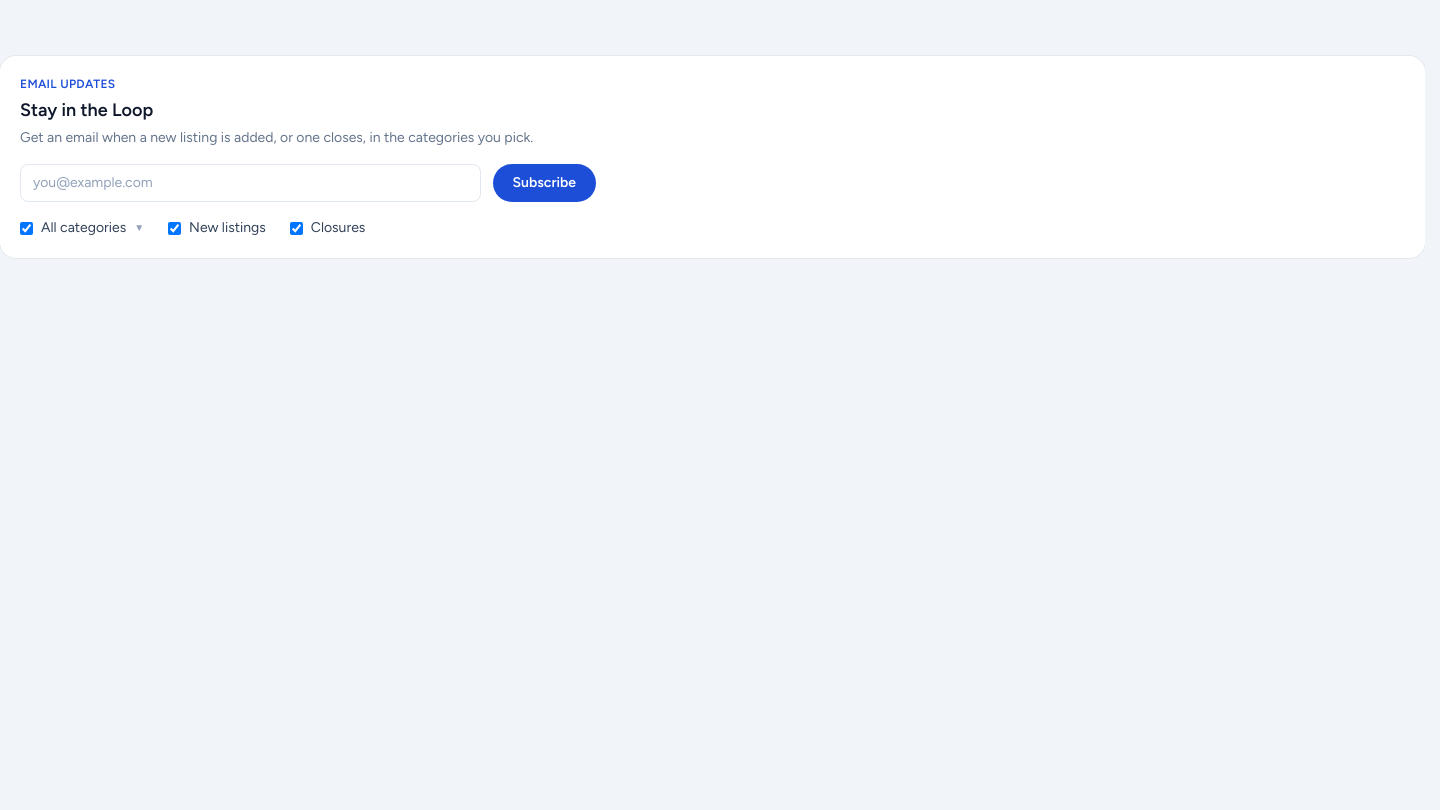
Test: SubscribeSection › opening the picker shows every category, checking one switches the button label to a count
Click the button named "All categories".
click(82, 228)  # box [20,218,144,238]
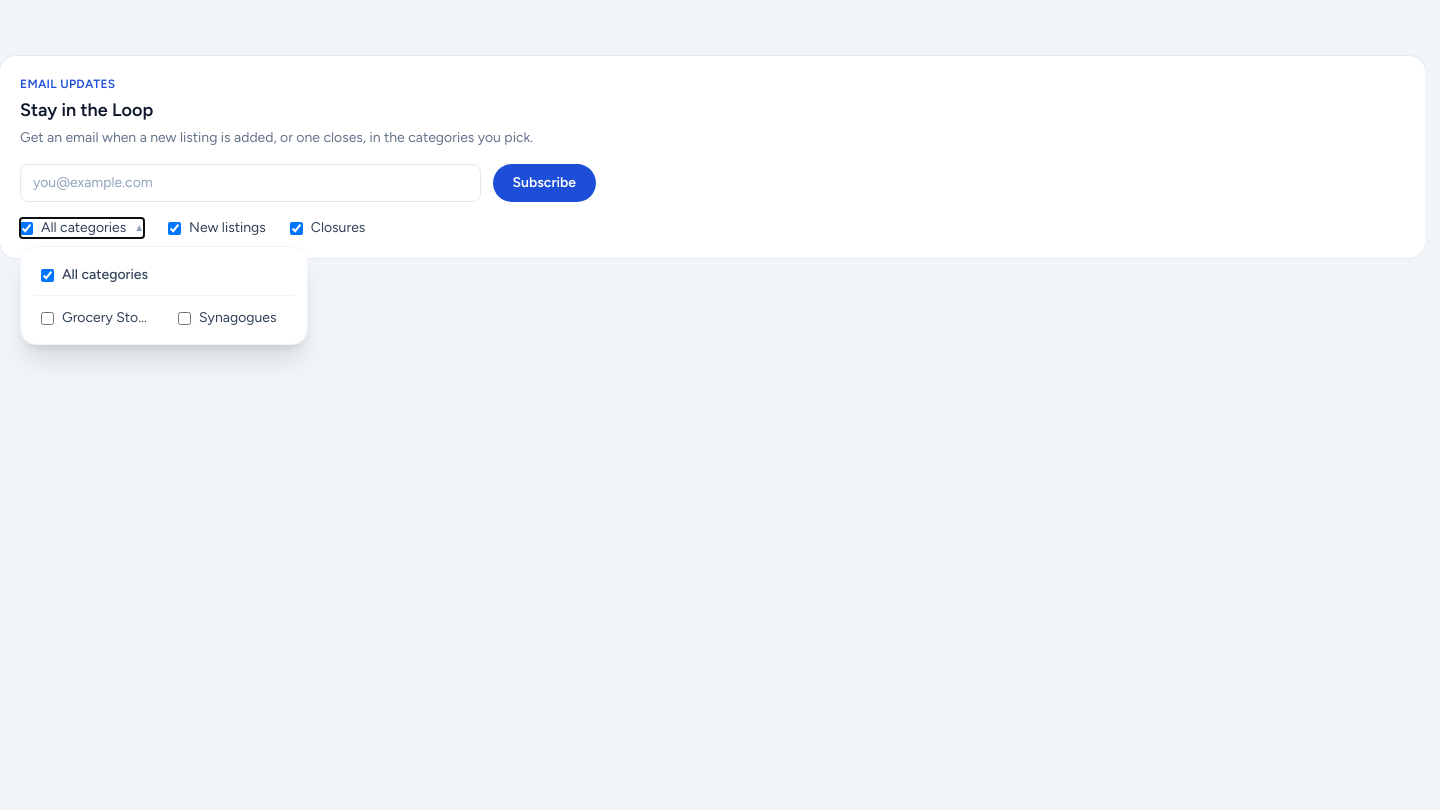
Expected: the text "Grocery Stores" is shown
Expected: the text "Synagogues" is shown, [199,308,276,328]
Click the text "Grocery Stores".
click(106, 318)  # box [62,308,150,328]
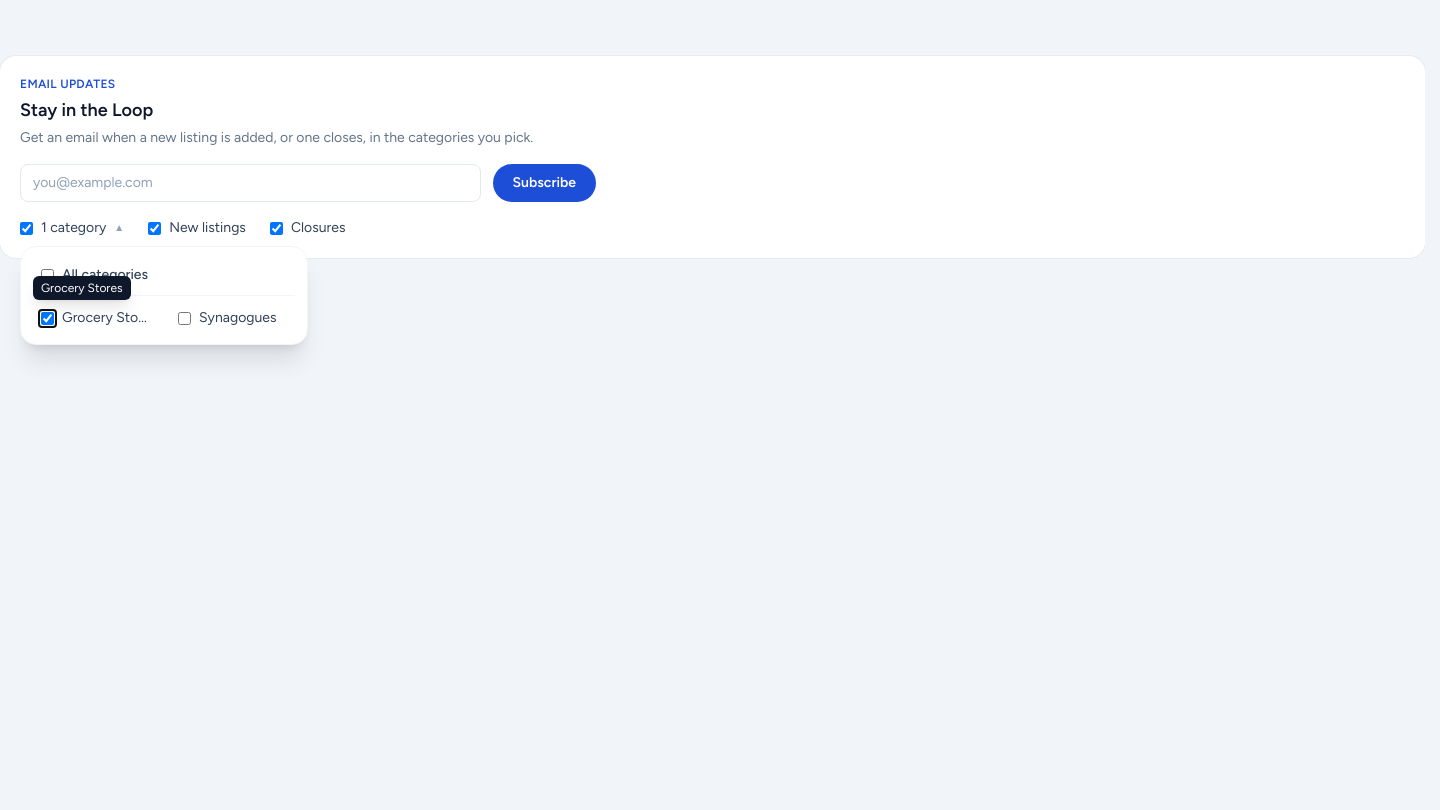
Expected: the button named "1 category" is shown, [20,218,124,238]
